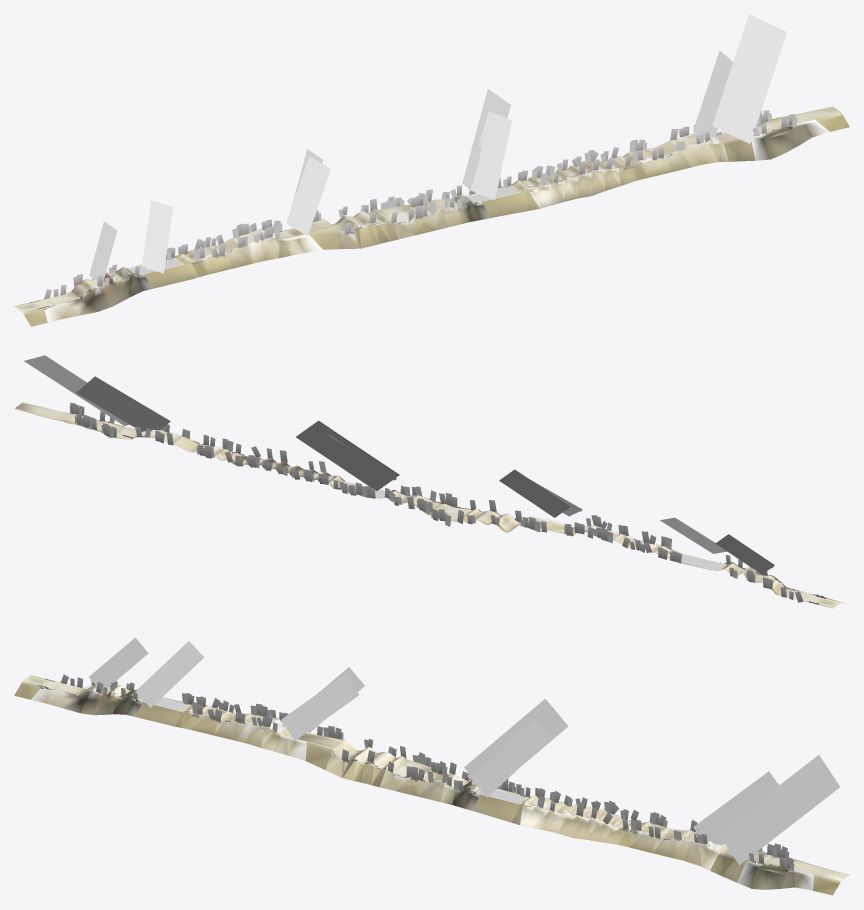
File: Beach_04.fbx
3 views of the same model, one above another, from view 1: azimuth 30°, elevation 25°; view 2: azimuth 150°, elevation 25°; view 3: azimuth 330°, elevation 25° (orthographic).
Parts seen in each view (by area): view 1: Light_01, Mountain_01, Tree_01, Road_01, Ground_01; view 2: Light_01, Tree_01, Ground_01, Road_01; view 3: Light_01, Mountain_01, Tree_01, Road_01, Ground_01, Sea_01.
Part boxes in pixels (bbox=[...]): Light_01: bbox=[89, 14, 786, 282]; Mountain_01: bbox=[44, 119, 829, 322]; Tree_01: bbox=[43, 110, 797, 309]; Road_01: bbox=[14, 106, 849, 326]; Ground_01: bbox=[15, 107, 840, 312]; Light_01: bbox=[24, 355, 774, 574]; Tree_01: bbox=[69, 402, 823, 602]; Ground_01: bbox=[15, 402, 840, 607]; Road_01: bbox=[14, 402, 843, 608]; Light_01: bbox=[89, 637, 839, 865]; Mountain_01: bbox=[31, 687, 813, 890]; Tree_01: bbox=[40, 674, 794, 871]; Road_01: bbox=[14, 675, 849, 895]; Ground_01: bbox=[23, 676, 848, 880]; Sea_01: bbox=[138, 697, 525, 803].
Size of the model in its own units: 73912 by 9282 by 7014.
